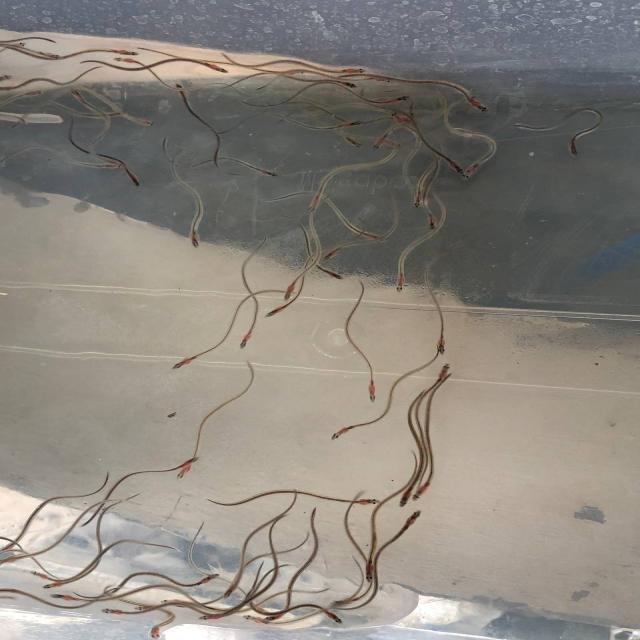glass_eel: (172, 454, 201, 480), (165, 454, 205, 472), (168, 352, 201, 372), (432, 360, 456, 386), (262, 604, 292, 624), (326, 596, 361, 613), (325, 422, 353, 443), (26, 569, 64, 584), (360, 556, 381, 583), (247, 162, 277, 180), (125, 116, 154, 134), (461, 163, 485, 184), (192, 609, 228, 623), (396, 510, 421, 530), (448, 156, 470, 178), (408, 186, 428, 210), (141, 620, 165, 640), (43, 591, 77, 605), (0, 552, 26, 570), (371, 132, 393, 153), (410, 479, 431, 501), (91, 606, 124, 620), (195, 571, 222, 588), (351, 491, 379, 507), (185, 228, 205, 250), (41, 578, 72, 592), (321, 244, 345, 262), (396, 485, 414, 509), (109, 54, 144, 66), (200, 63, 230, 77), (100, 159, 128, 174), (361, 382, 381, 403), (130, 600, 162, 613), (434, 333, 452, 356), (342, 132, 366, 149), (22, 85, 49, 100), (317, 265, 344, 280), (283, 279, 299, 304), (321, 610, 346, 626), (67, 87, 89, 105), (237, 327, 255, 349), (220, 580, 240, 599), (469, 98, 492, 114), (243, 614, 271, 627), (390, 112, 410, 130), (124, 173, 144, 191), (306, 194, 324, 214), (264, 304, 288, 319), (391, 275, 408, 296), (424, 208, 440, 230), (565, 140, 584, 158), (155, 598, 189, 608), (37, 50, 65, 62), (112, 47, 140, 59), (175, 82, 193, 100), (337, 118, 362, 130), (361, 231, 388, 242), (394, 93, 416, 106), (6, 39, 26, 53), (343, 66, 371, 76), (0, 542, 17, 558), (370, 75, 400, 84), (333, 79, 358, 89), (0, 71, 16, 85)
